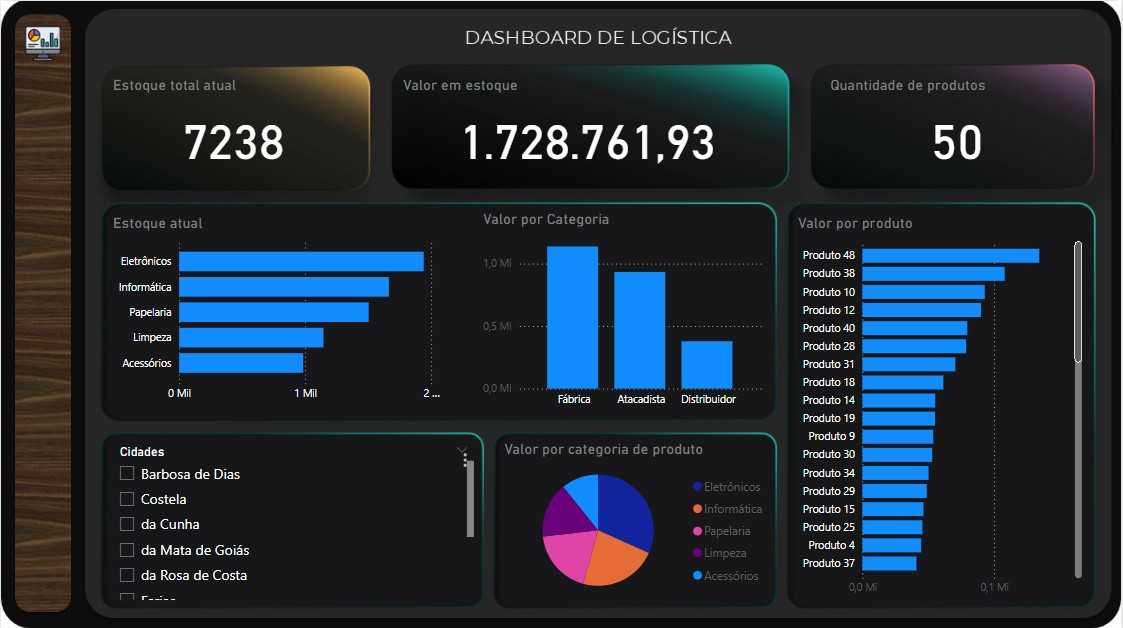

What the dashboard file says about the page in this screenshot:
{"tool":"powerbi","page":{"name":"Página 1","canvas":[1280,720],"ordinal":0},"visuals":[{"type":"card","title":"Estoque total atual","fields":{"Values":["Sum(Estoque.EstoqueAtual)"]},"box":[123.5,85.1,285.4,119.4],"z":0},{"type":"card","title":"Valor em estoque","fields":{"Values":["Estoque.Valor Total Estoque"]},"box":[454.2,85.1,432.2,119.4],"z":1000},{"type":"card","title":"Quantidade de produtos","fields":{"Values":["Estoque.Qtd Produtos"]},"box":[942.7,85.1,297.8,119.4],"z":3000},{"type":"clusteredBarChart","title":"Estoque atual","fields":{"Category":["Produtos.Categoria"],"Y":["Sum(Estoque.EstoqueAtual)"]},"box":[123.5,242.9,387,223.7],"z":4000},{"type":"pieChart","title":"Valor por categoria de produto","fields":{"Category":["Produtos.Categoria"],"Y":["Produtos.Valor por Categoria"]},"box":[569.5,500.9,314.2,188],"z":4002},{"type":"columnChart","title":"Valor por Categoria","fields":{"Category":["Fornecedores.Categoria"],"Y":["Estoque.ValorTotalProduto"]},"box":[546.1,238.8,329.3,234.6],"z":4003},{"type":"clusteredBarChart","title":"Valor por produto","fields":{"Category":["Produtos.Nome"],"Y":["Estoque.ValorTotalProduto"]},"box":[905.7,242.9,334.8,446],"z":4005},{"type":"slicer","fields":{"Values":["Fornecedores.Cidade"]},"box":[123.5,500.9,422.6,188],"z":4006}]}

Visuals, with their boxes in screenshot pixels (x1, y1, x2, y2), scaled from the page's 1280x720 canvas onto the 1123x628 screenshot:
"Estoque total atual" card: <box>108,74,359,178</box>
"Valor em estoque" card: <box>398,74,778,178</box>
"Quantidade de produtos" card: <box>827,74,1088,178</box>
"Estoque atual" clusteredBarChart: <box>108,212,448,407</box>
"Valor por categoria de produto" pieChart: <box>500,437,775,601</box>
"Valor por Categoria" columnChart: <box>479,208,768,413</box>
"Valor por produto" clusteredBarChart: <box>795,212,1088,601</box>
slicer - Fornecedores.Cidade: <box>108,437,479,601</box>
